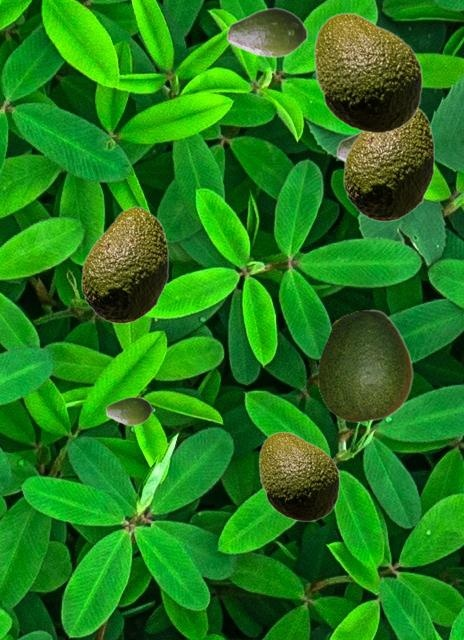avocado: (313, 12, 422, 133), (317, 309, 412, 421), (343, 108, 433, 221), (81, 206, 167, 323), (258, 431, 339, 521), (226, 7, 307, 57), (105, 396, 154, 425), (336, 132, 359, 162)
